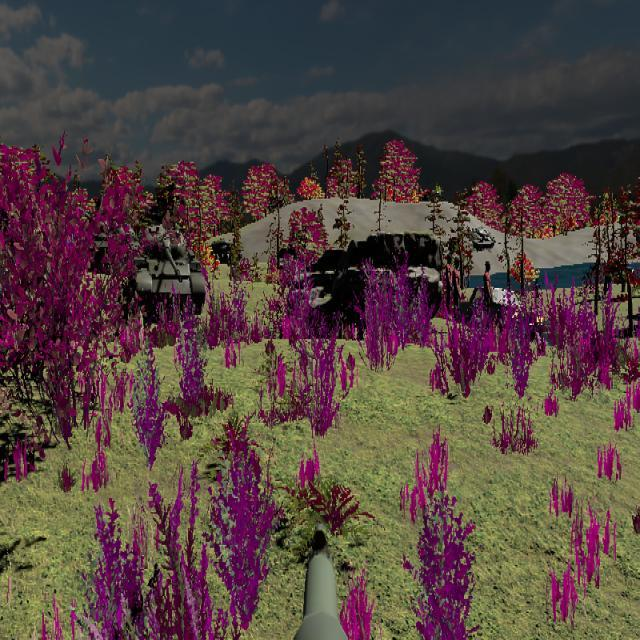Tank: (133, 225, 206, 316), (471, 224, 497, 251)
